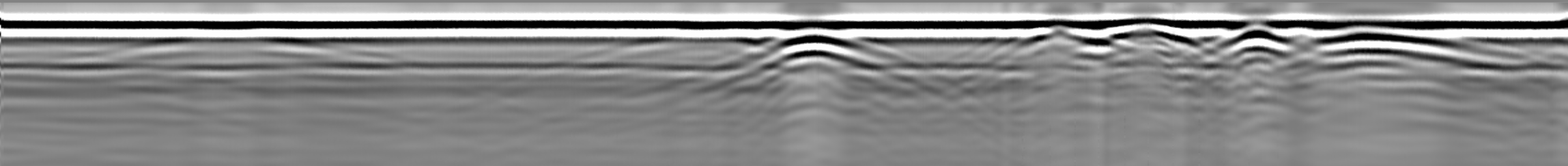pipe: (1327, 19, 1456, 44), (760, 20, 867, 47), (1107, 18, 1185, 40), (1025, 19, 1094, 43), (1225, 19, 1289, 43)
